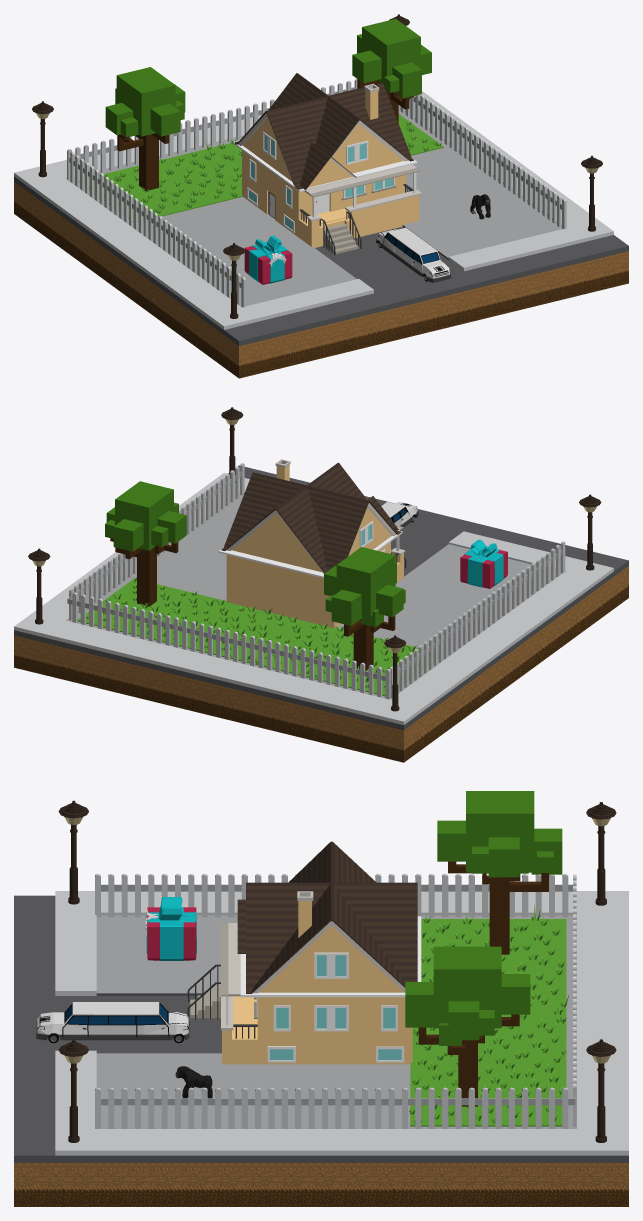
The picture shows the model from 3 angles, top to bottom: view 1: azimuth 30°, elevation 25°; view 2: azimuth 150°, elevation 25°; view 3: azimuth 270°, elevation 25°; orthographic projection. The views are drawn at different scales.
Parts seen in each view (by area): view 1: Cube.004, Cube.235, VEHICLES_LIMOUSINE, OBJRANDOM_GIANT_PRESENT; view 2: Cube.004, Cube.235, OBJRANDOM_GIANT_PRESENT, VEHICLES_LIMOUSINE; view 3: Cube.004, Cube.235, VEHICLES_LIMOUSINE, OBJRANDOM_GIANT_PRESENT, ANIMAL_GORILA.
Part boxes in pixels (x1,y1,x2,y2): Cube.004: [14, 14, 628, 378]; Cube.235: [233, 73, 422, 255]; VEHICLES_LIMOUSINE: [375, 227, 451, 282]; OBJRANDOM_GIANT_PRESENT: [244, 235, 292, 284]; Cube.004: [14, 407, 628, 762]; Cube.235: [218, 459, 406, 627]; OBJRANDOM_GIANT_PRESENT: [460, 539, 507, 588]; VEHICLES_LIMOUSINE: [381, 502, 418, 527]; Cube.004: [14, 791, 628, 1206]; Cube.235: [187, 841, 421, 1064]; VEHICLES_LIMOUSINE: [36, 1002, 189, 1043]; OBJRANDOM_GIANT_PRESENT: [145, 897, 196, 960]; ANIMAL_GORILA: [175, 1066, 212, 1098].
Size of the model in its own units: 4000 by 1601 by 4000.
38 materials, 3 textured.
